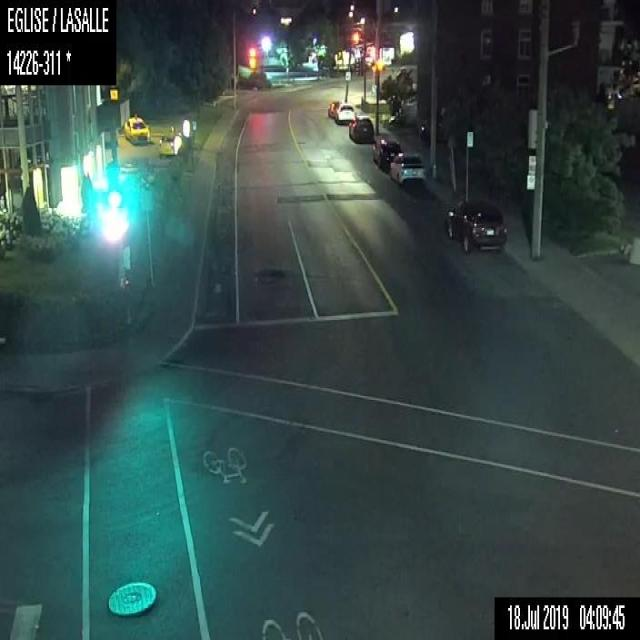vehicle: (443, 198, 509, 254), (386, 151, 429, 189), (373, 136, 401, 168), (348, 114, 376, 143), (123, 113, 149, 144), (156, 124, 178, 156), (335, 103, 354, 123), (328, 100, 342, 117)
